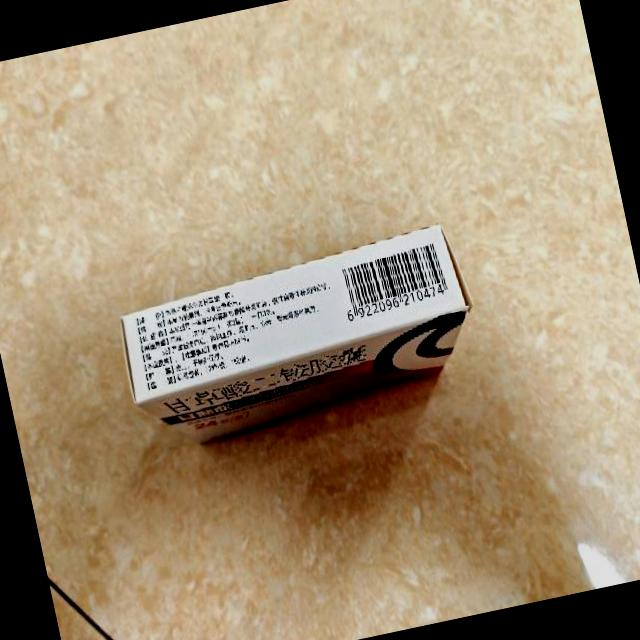box: (111, 219, 488, 456)
